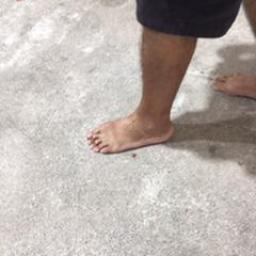Lateral View -Left Foot-: (80, 91, 185, 158)
